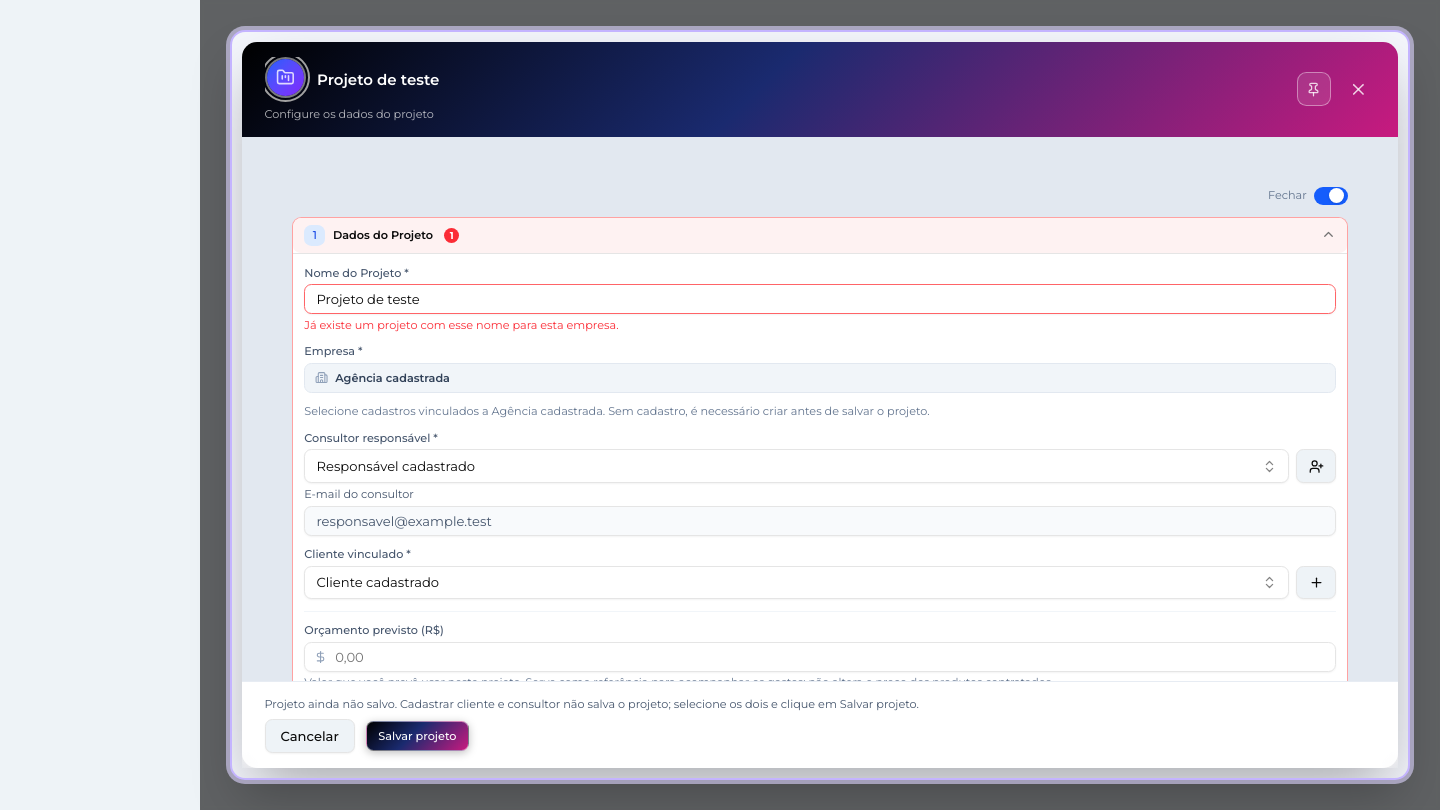
Test: Formulário REAL de projeto dentro do checkout › verificação antecipada bloqueia duplicado sem chamar a criação
Expected: the text "Já existe um projeto com esse nome para esta empresa." is shown, [304,318,619,332]
Click the button "Salvar projeto". click: [417, 736]
box: [366,721,469,751]
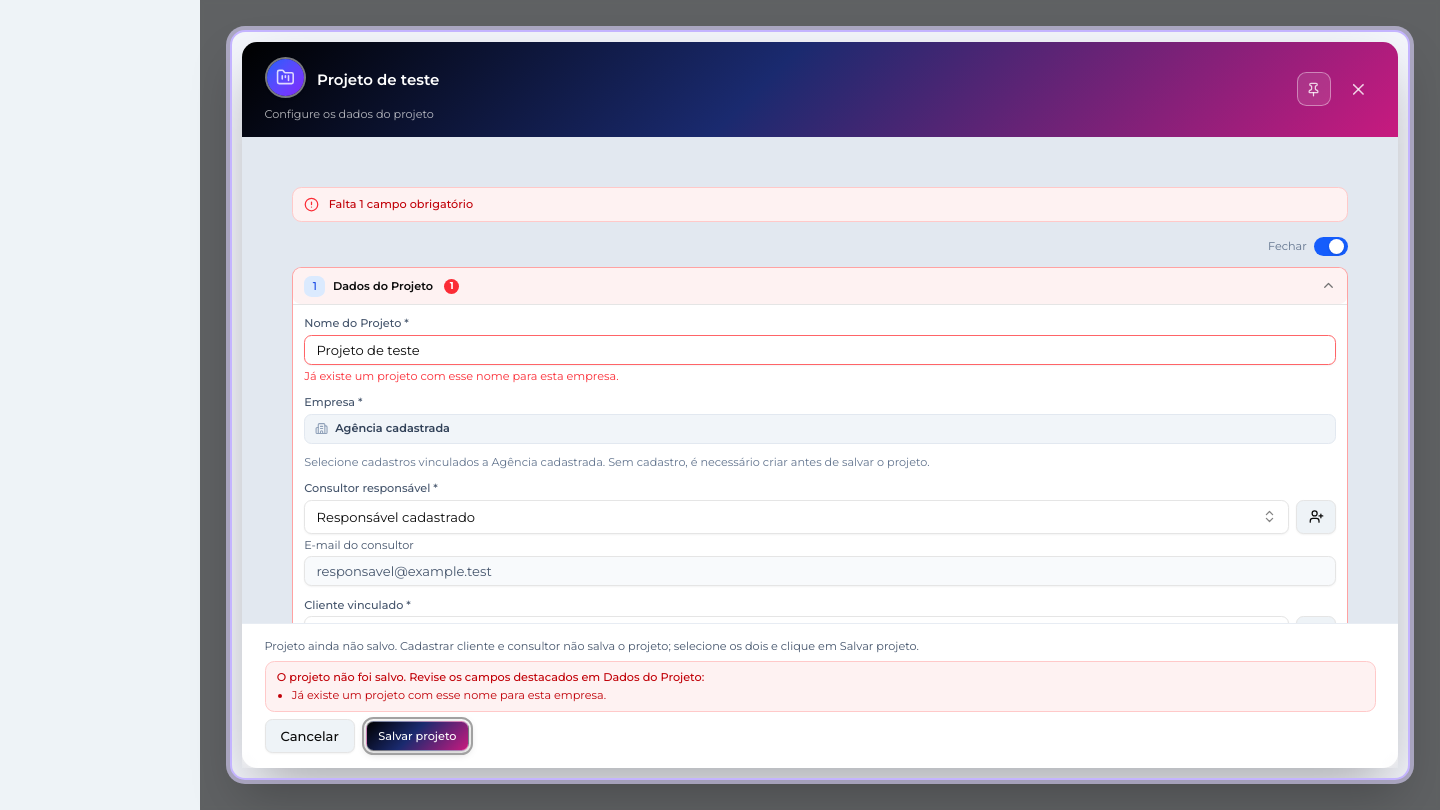
Now the 2nd message shows "O projeto não foi salvo", box [277,670,704,684]
Now the 2nd message shows "Já existe um projeto com esse nome para esta empresa.", box [292,688,606,702]
